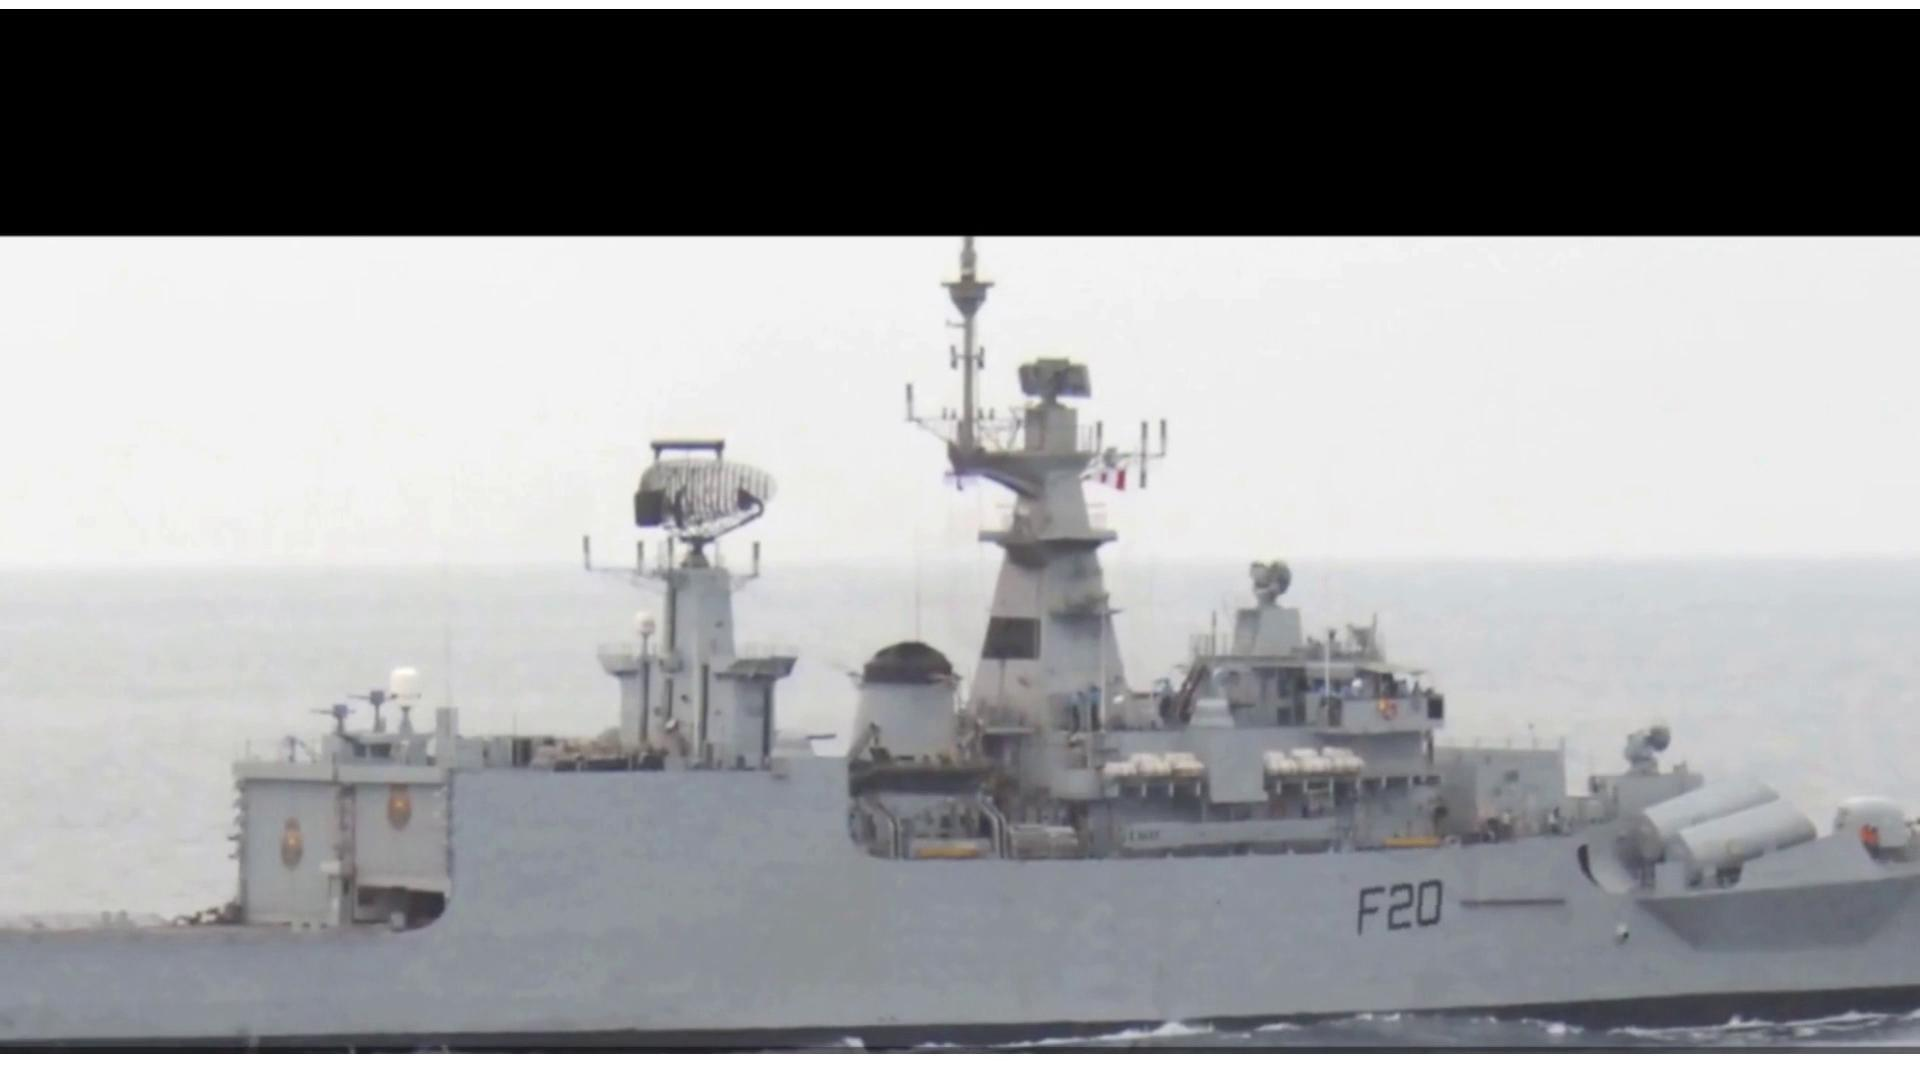OCR: (1341, 878, 1447, 948)
